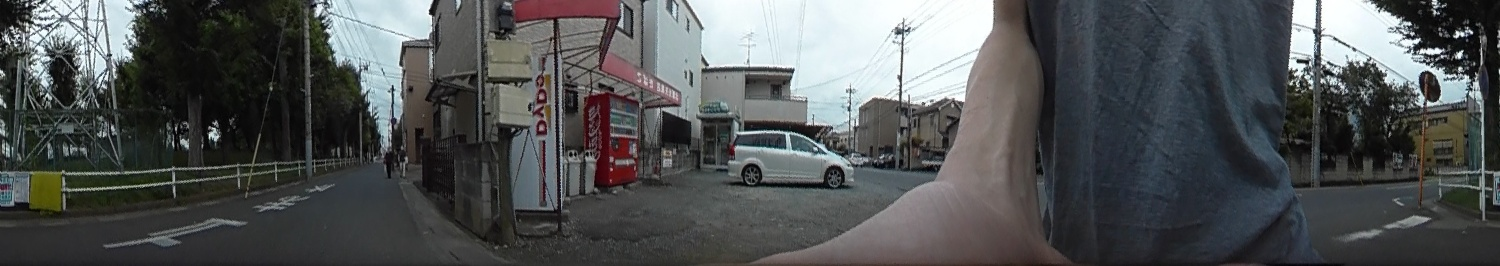difficult_person: (380, 144, 395, 181), (396, 144, 409, 177)
